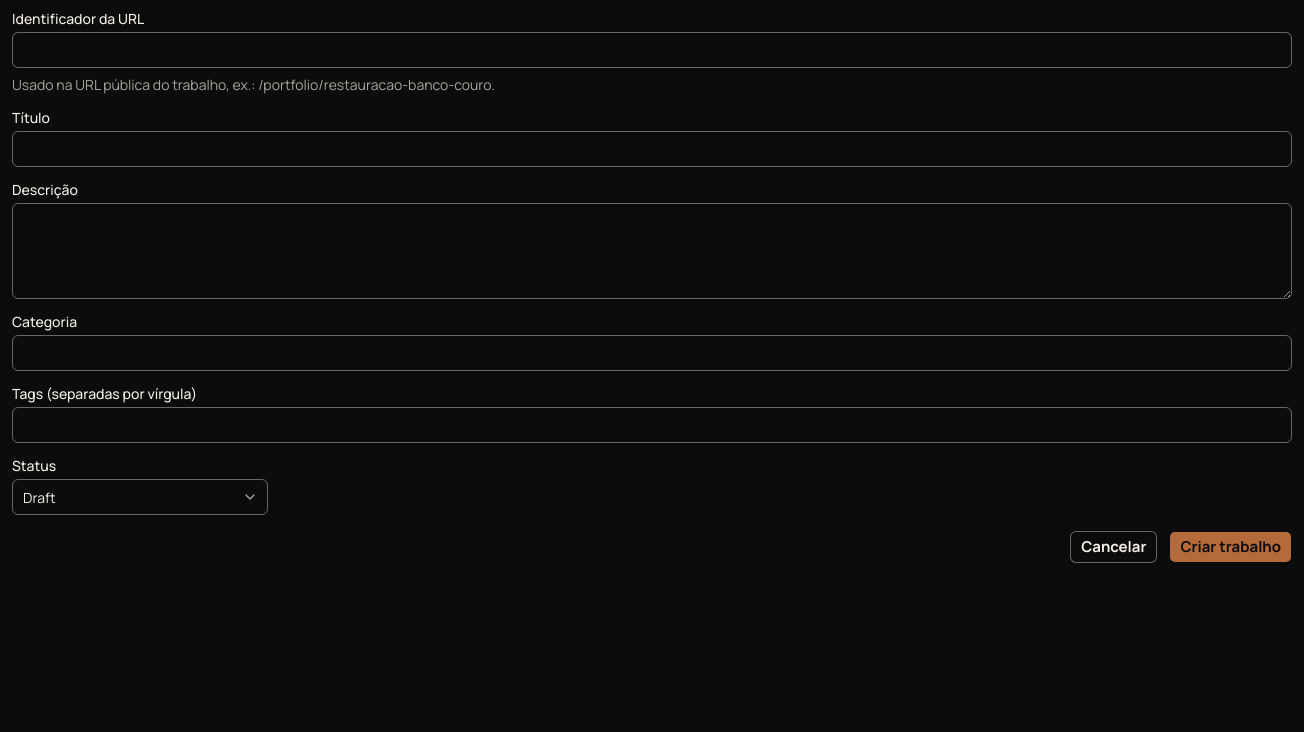
CreateWorkForm › não expõe detalhes internos da API quando a resposta de erro não tem mensagem
Type " restauracao-fusca " into the field labelled "Identificador da URL" at (652, 50), box [12,32,1292,68]
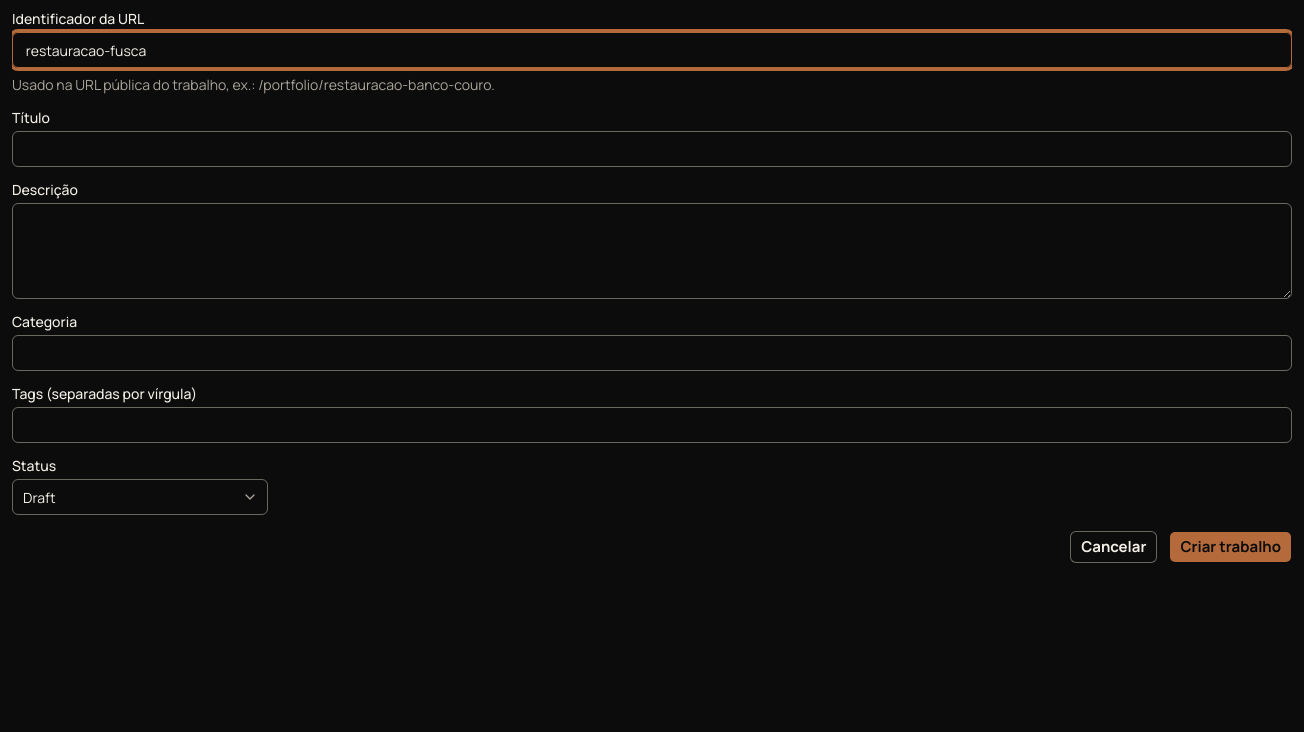
Type " Restauração Fusca " into the field labelled "Título" at (652, 149), box [12,131,1292,167]
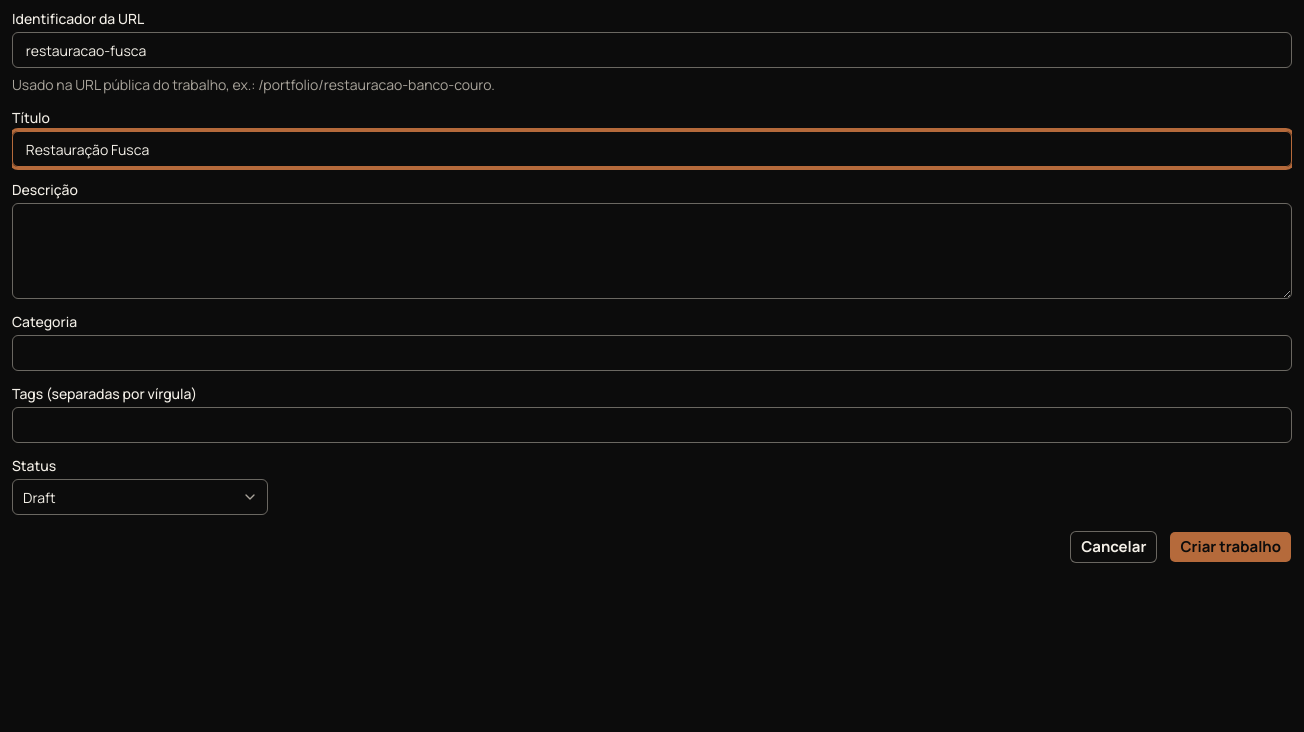
Type " Descrição completa do serviço. " into the text box labelled "Descrição" at (652, 251), box [12,203,1292,299]
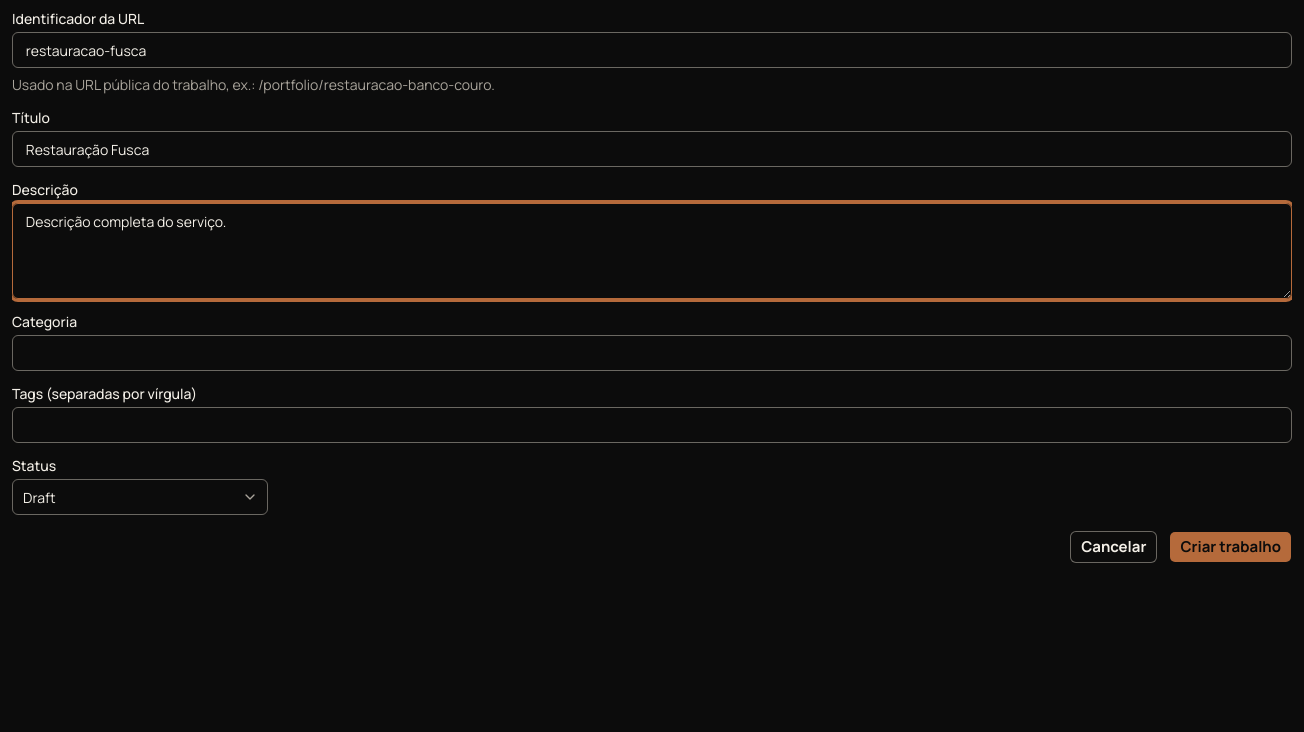
Type " Estofamento " into the field labelled "Categoria" at (652, 353), box [12,335,1292,371]
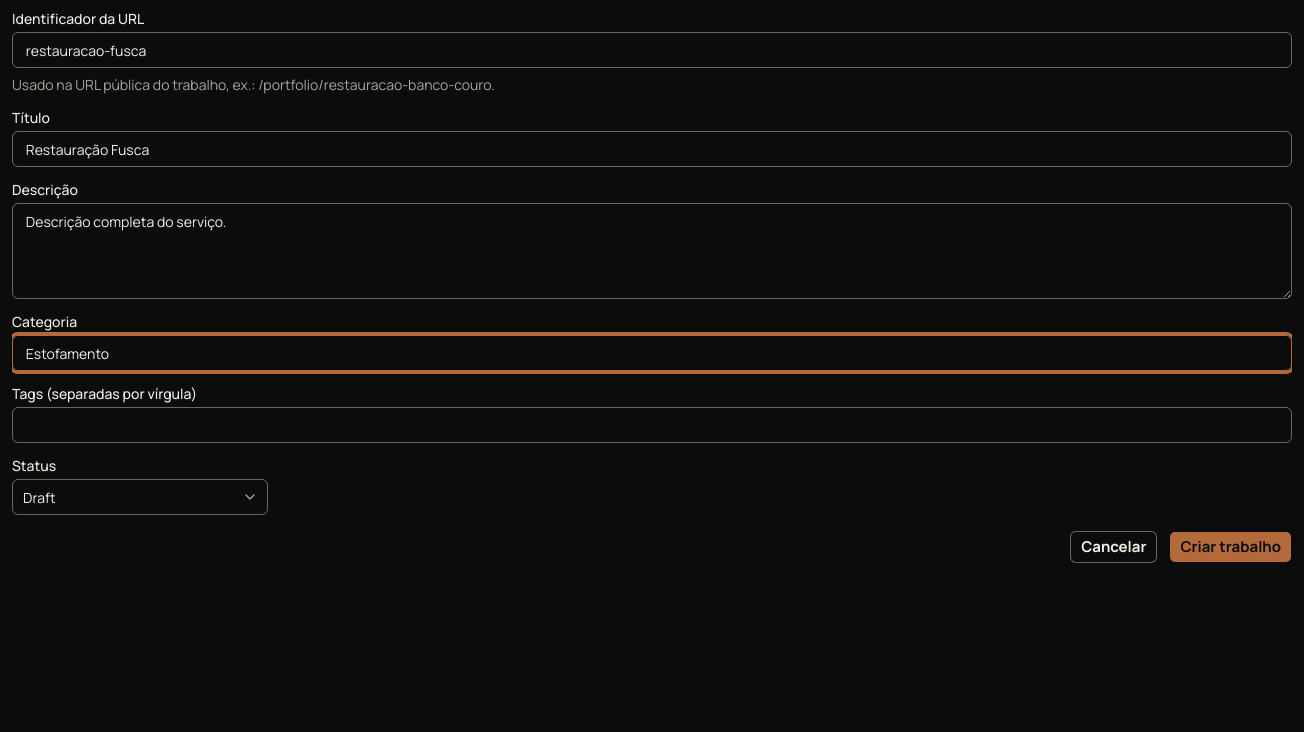
Type "fusca, restauracao" into the field labelled "Tags (separadas por vírgula)" at (652, 425), box [12,407,1292,443]
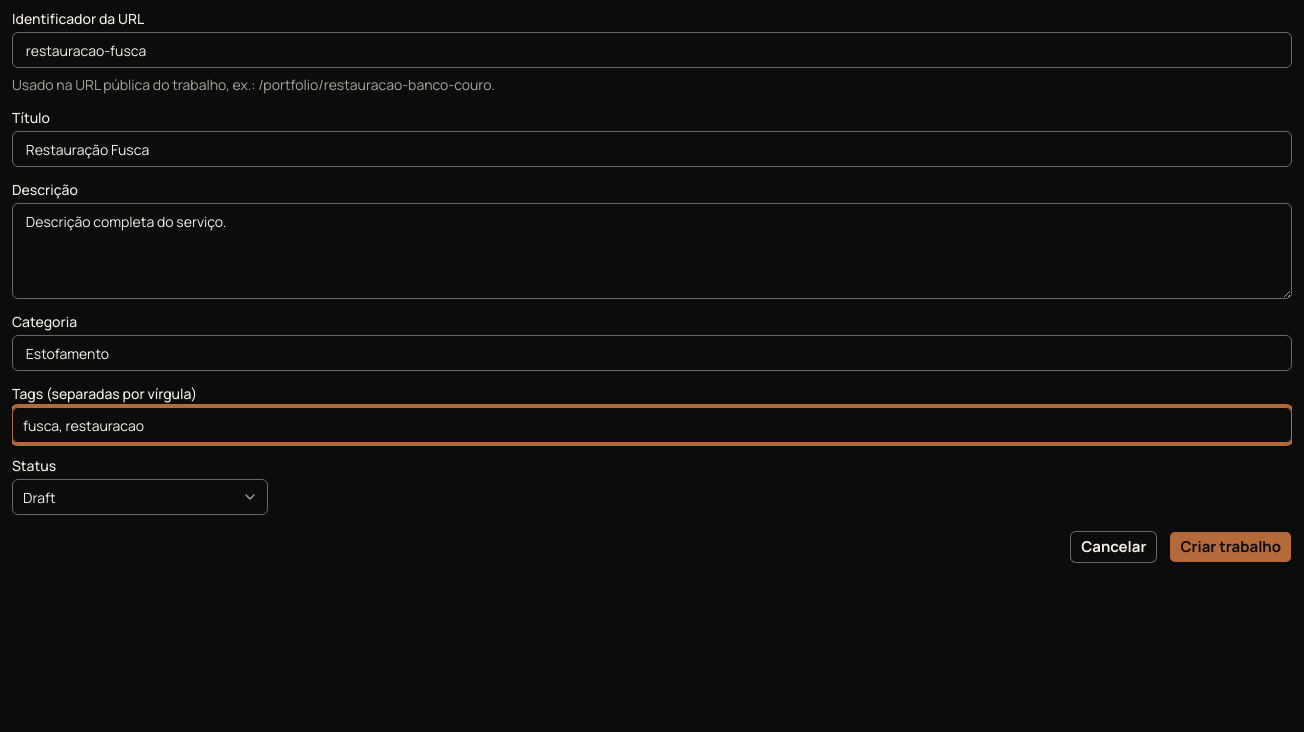
Click the button "Criar trabalho" at (1231, 547), box [1169,531,1292,563]
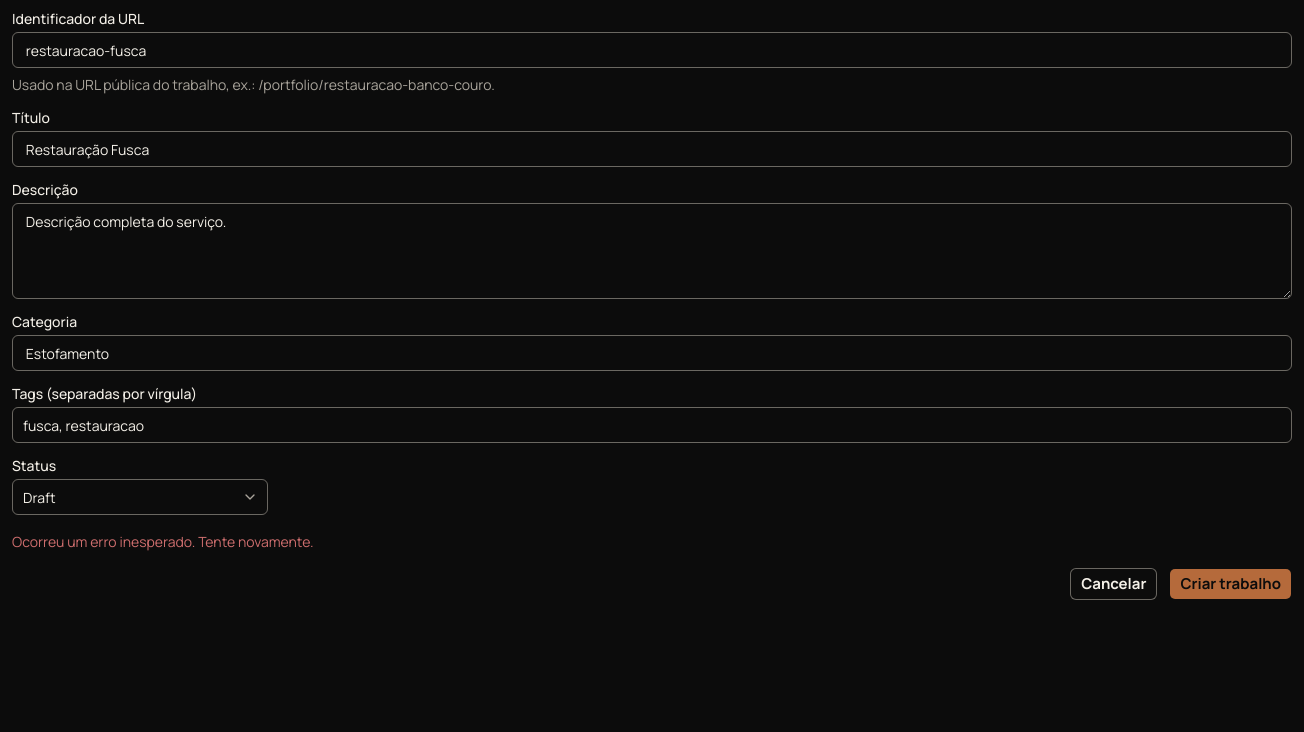
Result: the message reads "Ocorreu um erro inesperado. Tente novamente." at [12,532,314,551]
